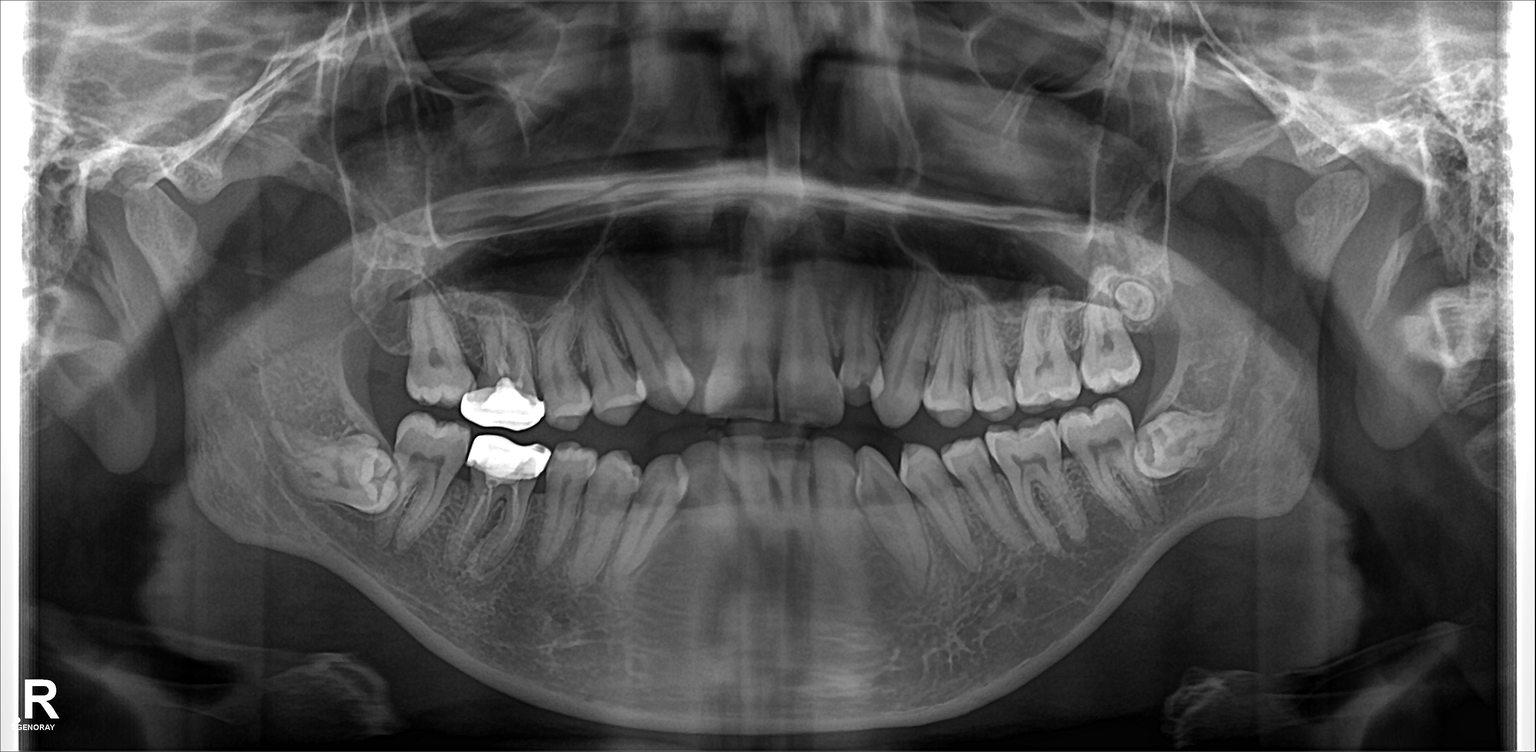Dental Caries: (844, 376, 875, 404)
Endodontically Treated Tooth: (469, 441, 544, 567), (475, 302, 538, 425)
Impacted Third Molar: (292, 437, 410, 512), (1136, 410, 1244, 474), (1121, 268, 1177, 334)
Missing Tooth: (363, 294, 414, 401)
